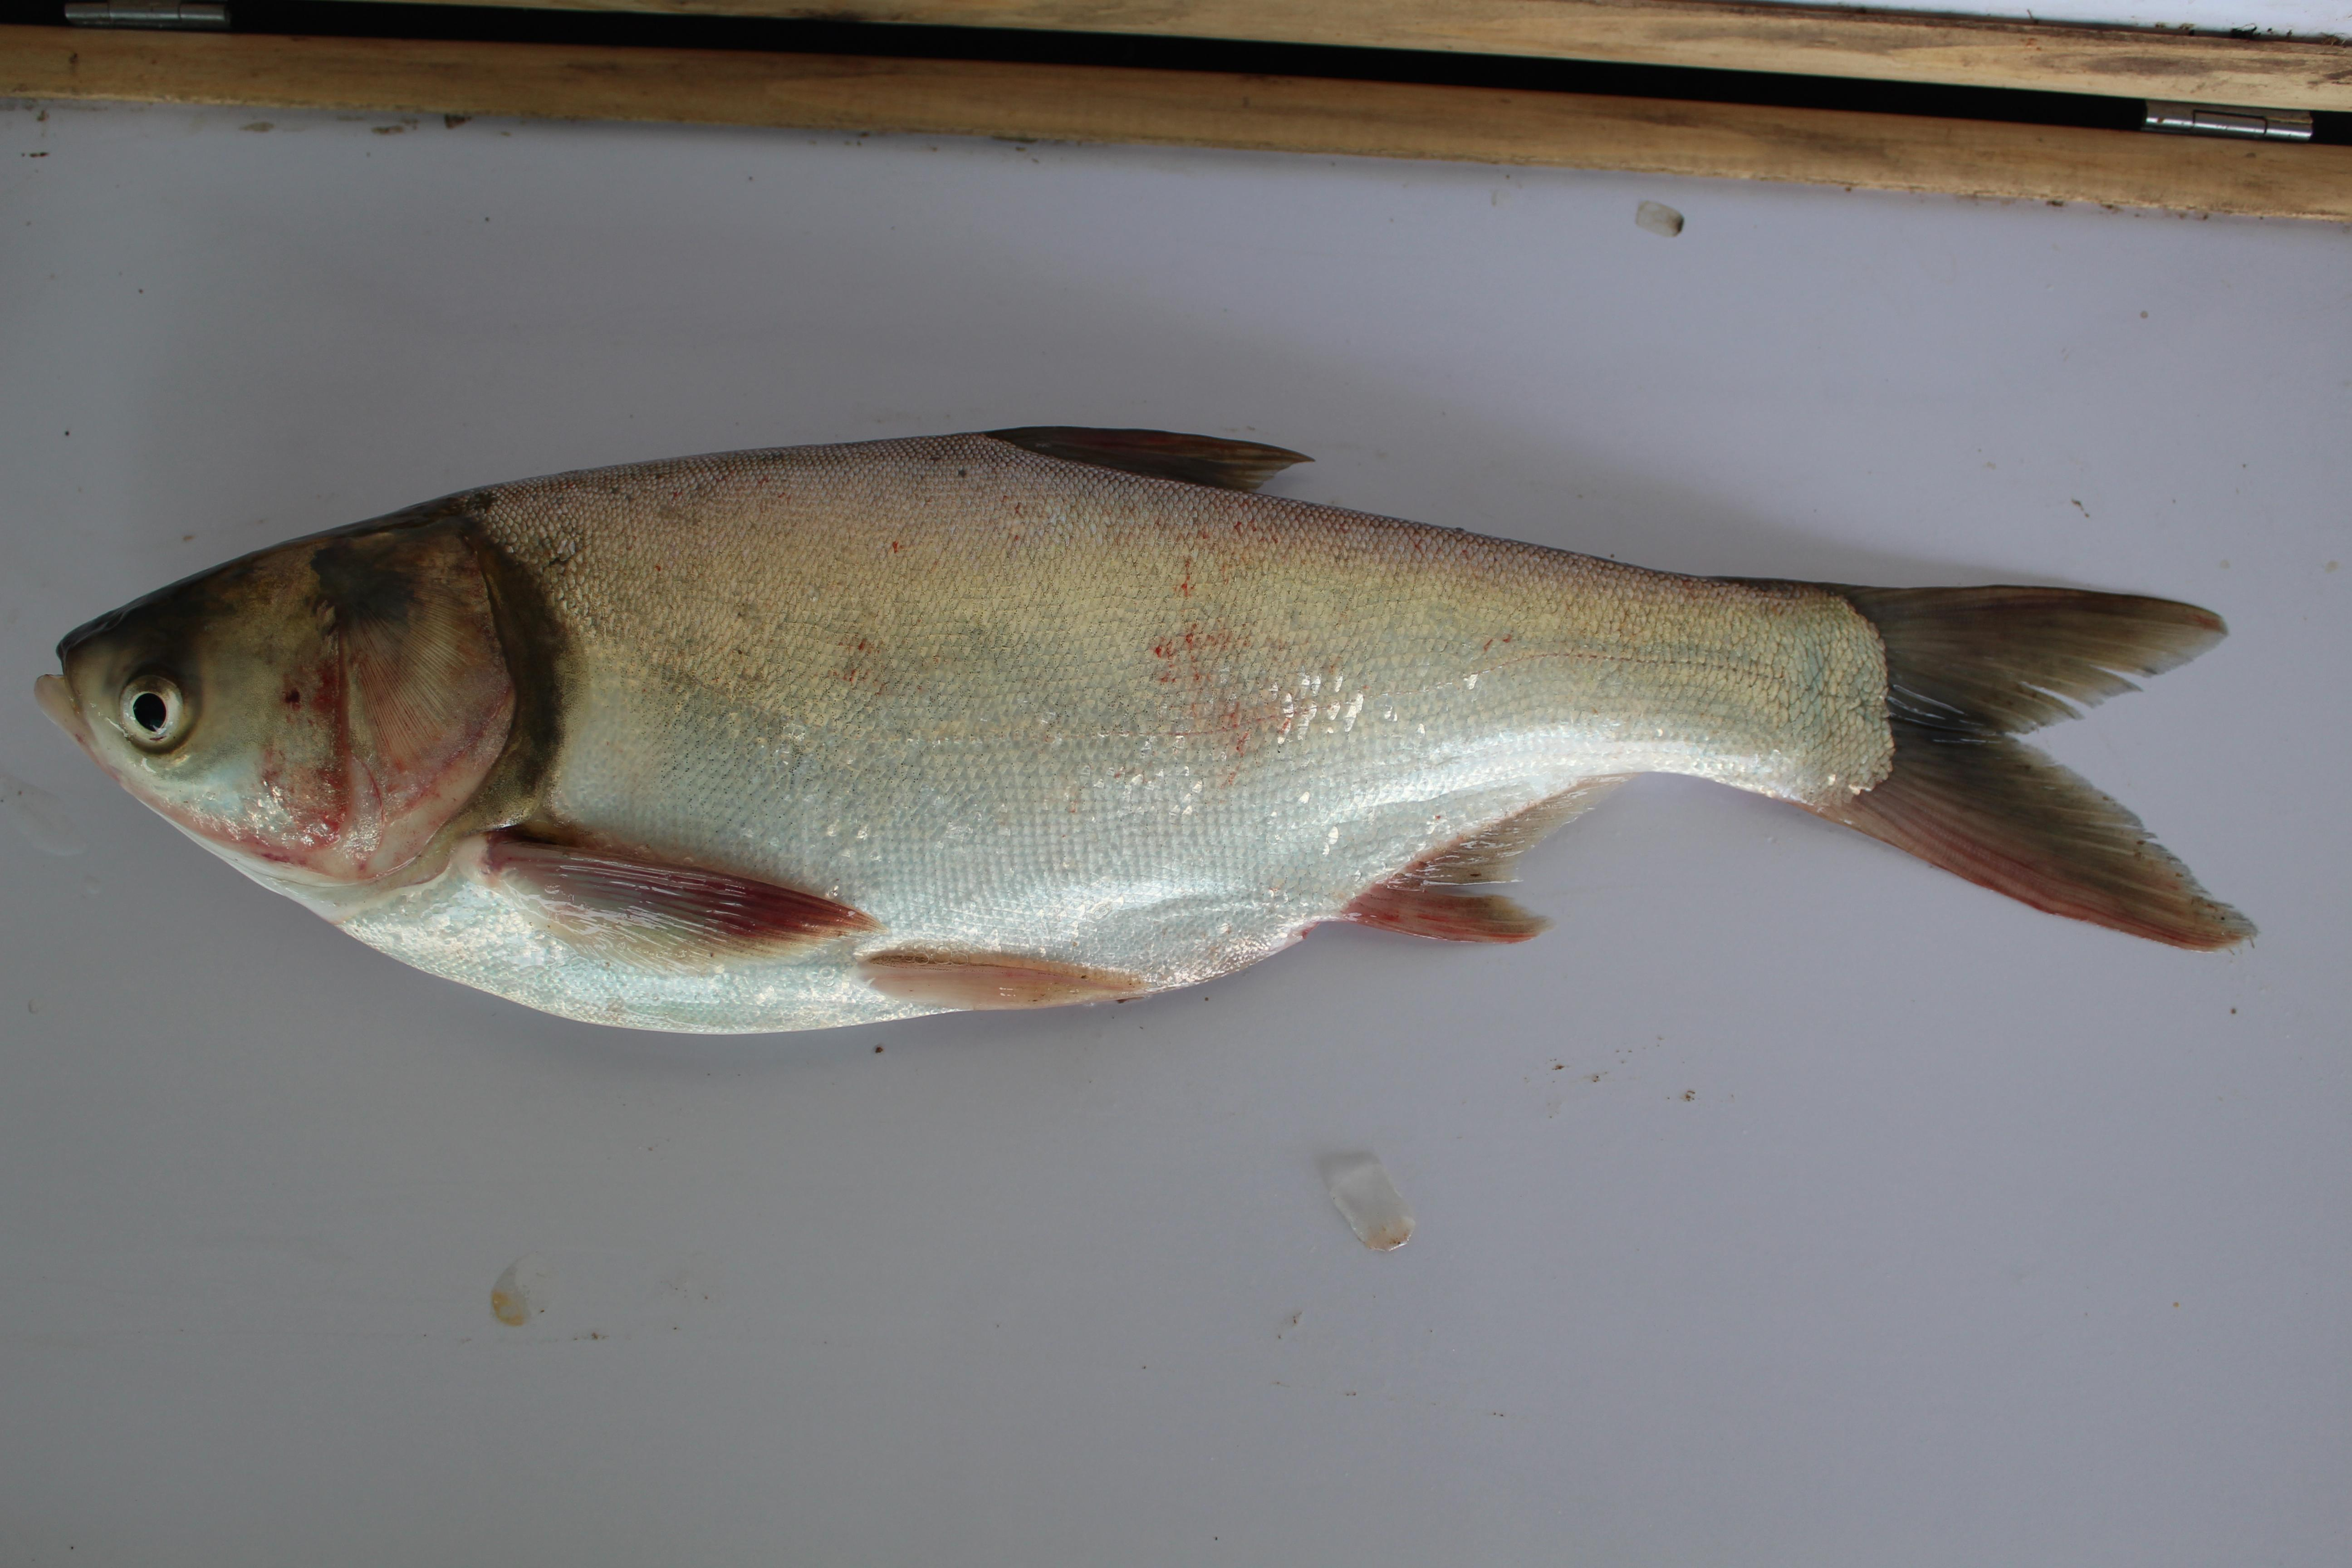Silver Carp: (38, 376, 2282, 1052)
